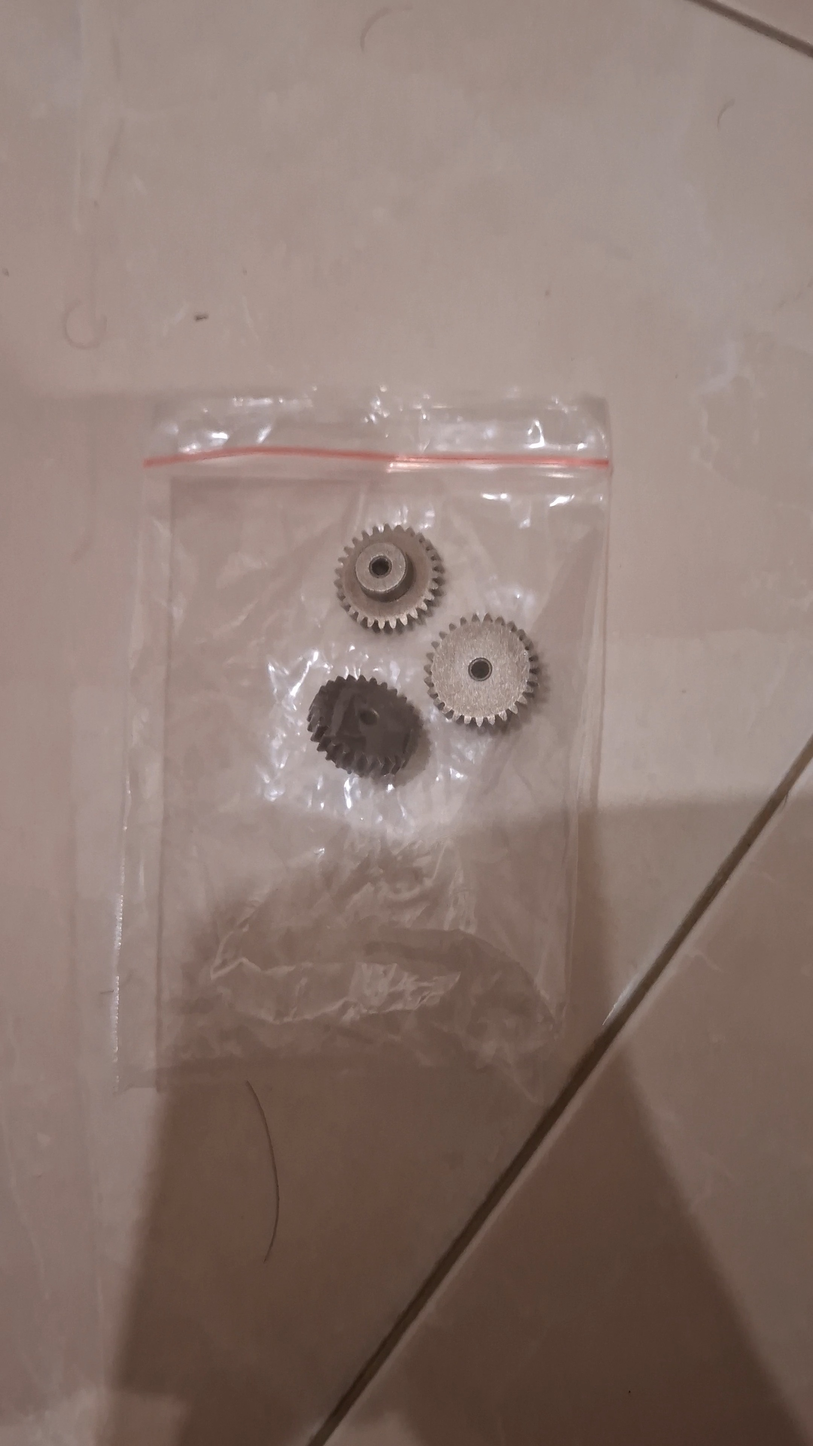spur gear: (420, 612, 540, 731), (305, 671, 423, 779), (332, 523, 445, 633)
